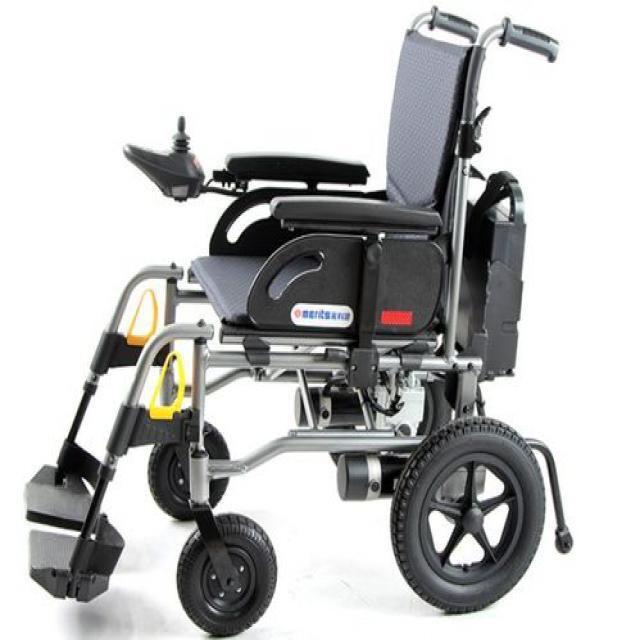wheelchair: (20, 5, 572, 632)
